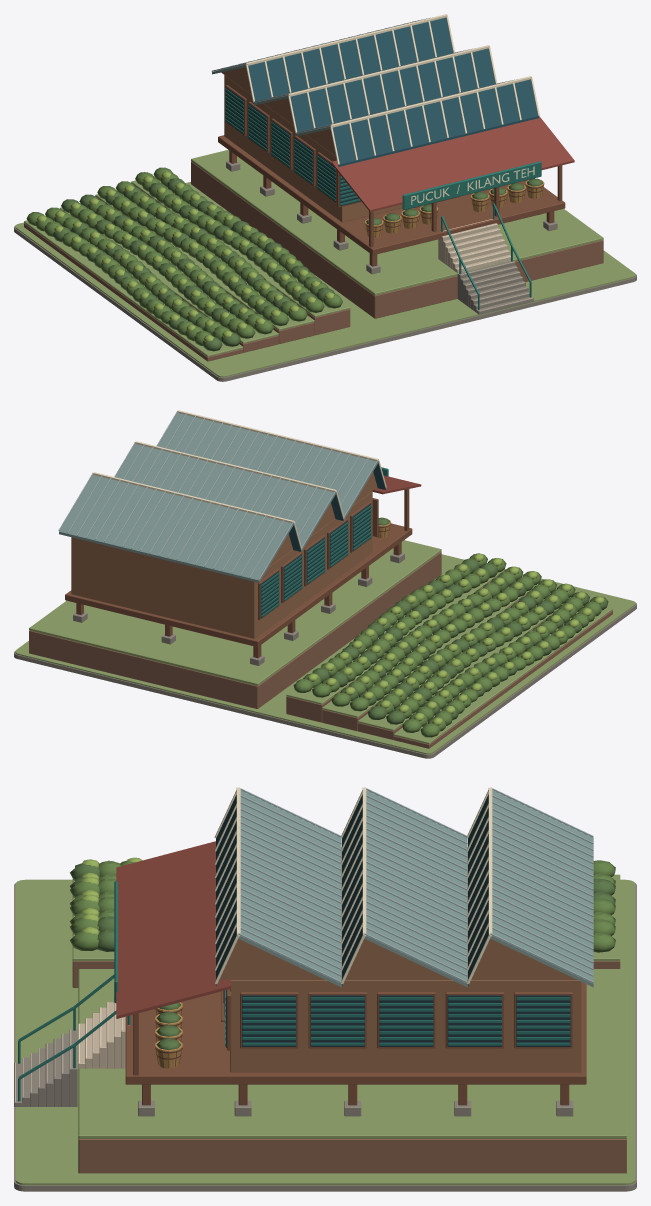
The picture shows the model from 3 angles, top to bottom: view 1: azimuth 30°, elevation 25°; view 2: azimuth 150°, elevation 25°; view 3: azimuth 270°, elevation 25°; orthographic projection. The views are drawn at different scales.
Parts seen in each view (by area): view 1: Contour Tea Beds, Withering Loft, Daylight Monitors, Leaf Intake Deck; view 2: Withering Loft, Contour Tea Beds, Daylight Monitors, Leaf Intake Deck; view 3: Withering Loft, Daylight Monitors, Contour Tea Beds, Leaf Intake Deck.
Part boxes in pixels (<box>): Contour Tea Beds: <box>14,167,636,381</box>; Withering Loft: <box>191,75,603,318</box>; Daylight Monitors: <box>211,14,539,166</box>; Leaf Intake Deck: <box>331,116,574,314</box>; Withering Loft: <box>29,491,441,708</box>; Contour Tea Beds: <box>14,553,636,758</box>; Daylight Monitors: <box>58,410,386,582</box>; Leaf Intake Deck: <box>372,467,421,537</box>; Withering Loft: <box>78,847,626,1173</box>; Daylight Monitors: <box>214,787,593,987</box>; Contour Tea Beds: <box>14,857,636,1191</box>; Leaf Intake Deck: <box>14,841,230,1106</box>.
Size of the model in its own units: 26.42 by 9.46 by 22.8.
